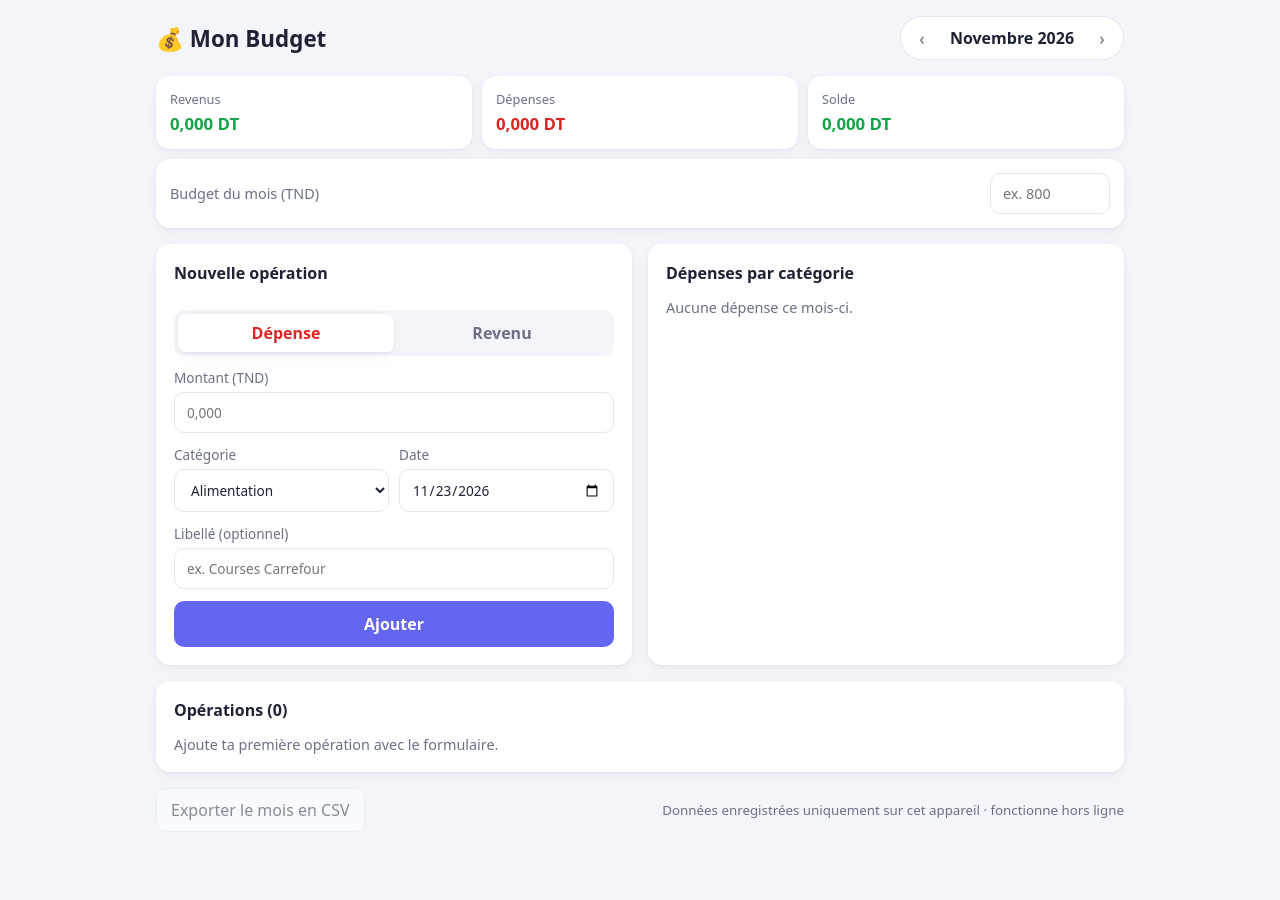
Test: App › ajoute une dépense, met à jour le solde puis la supprime
Type "45,5" into the field with placeholder "0,000" at coordinates (394, 412), box [174,392,614,433]
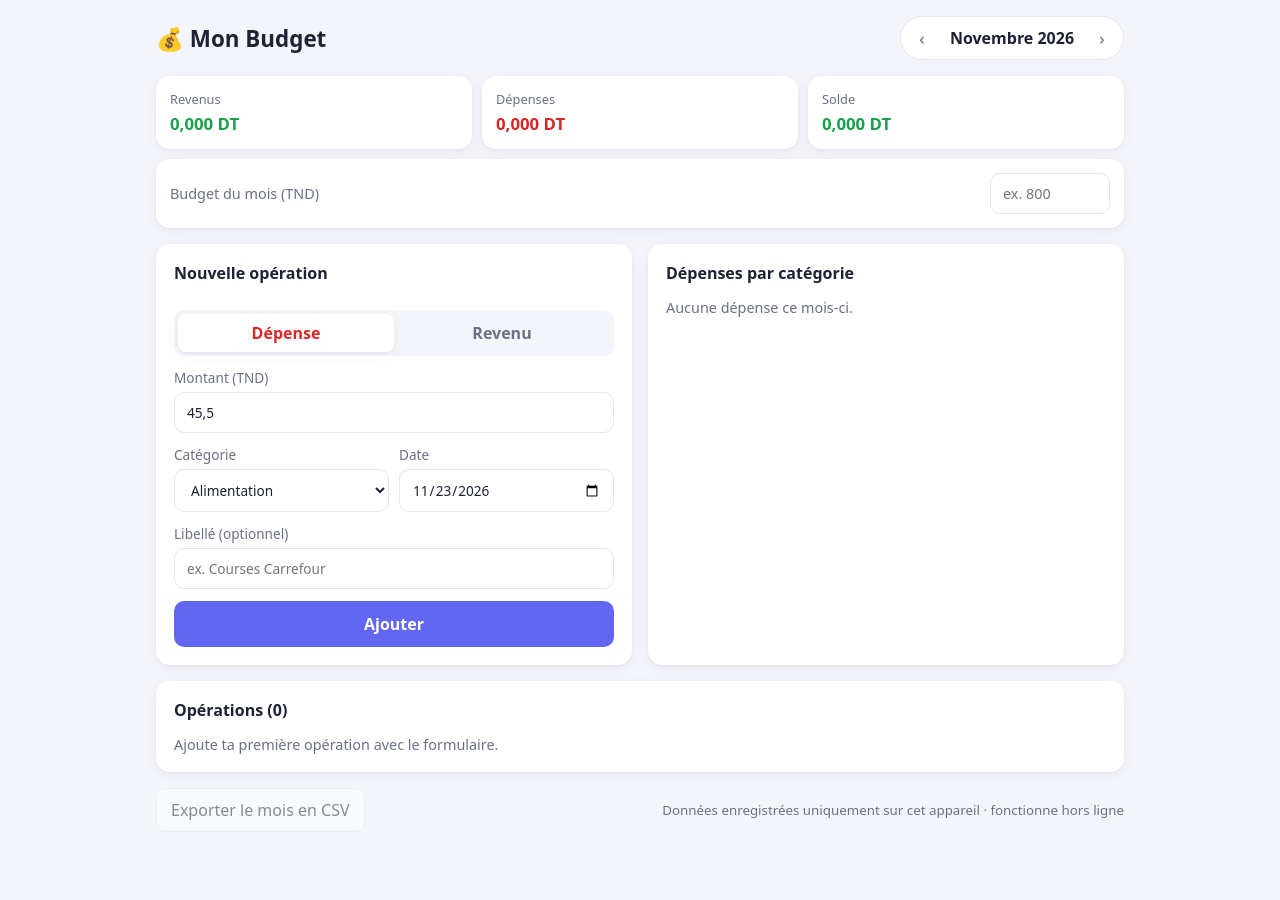
Type "Courses" into the field with placeholder "ex. Courses Carrefour" at coordinates (394, 568), box [174,548,614,589]
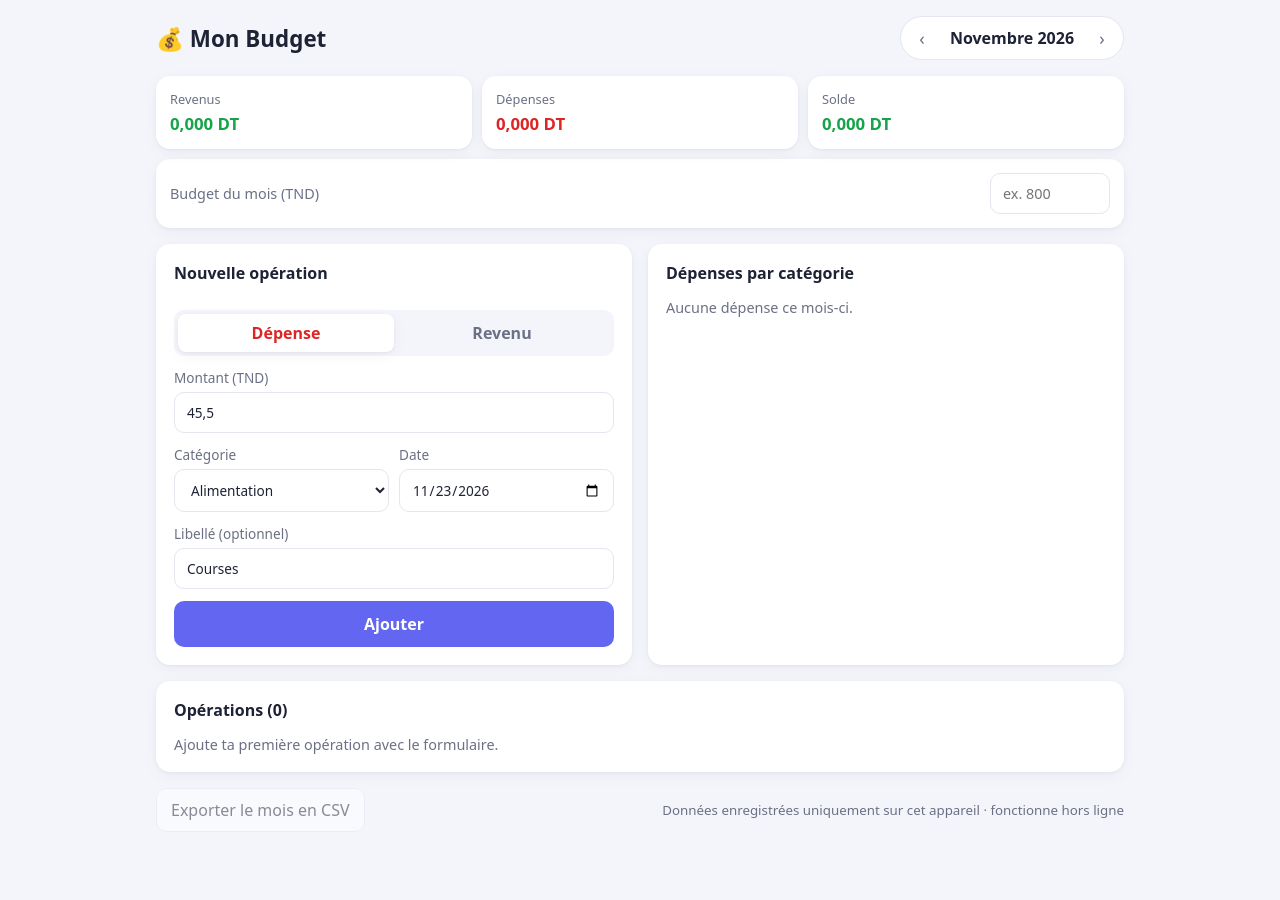
Click the button "Ajouter" at coordinates (394, 624), box [174,601,614,647]
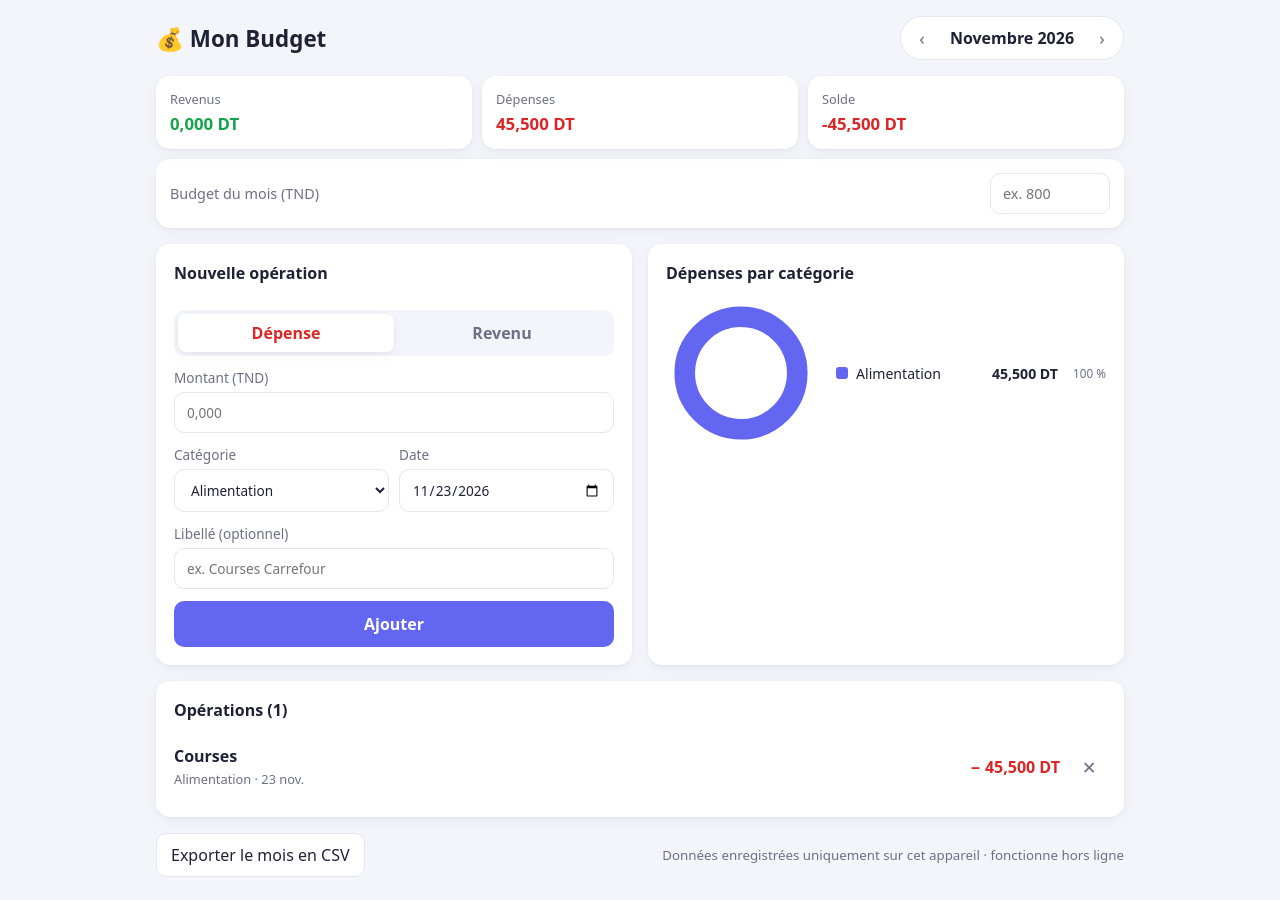
expect the text "Courses" is shown: met, box [174,745,237,767]
expect the heading "Opérations (1)" is shown: met, box [174,699,287,721]
Click the button named "Supprimer Courses" at coordinates (1089, 767), box [1072,750,1106,784]
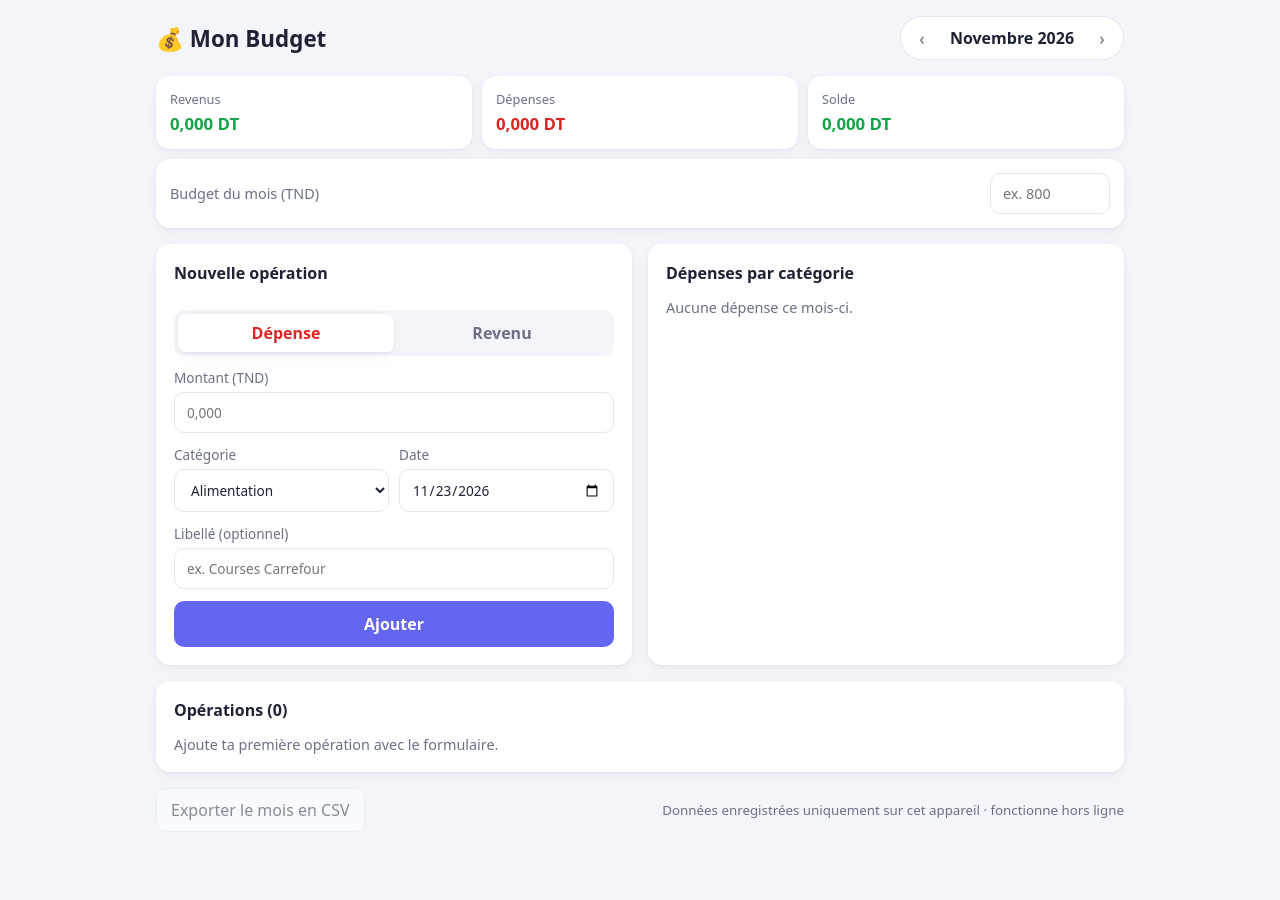
expect the heading "Opérations (0)" is shown: met, box [174,699,287,721]
